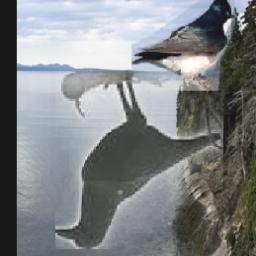Crow: (55, 72, 223, 250)
Swallow: (130, 0, 234, 92)
